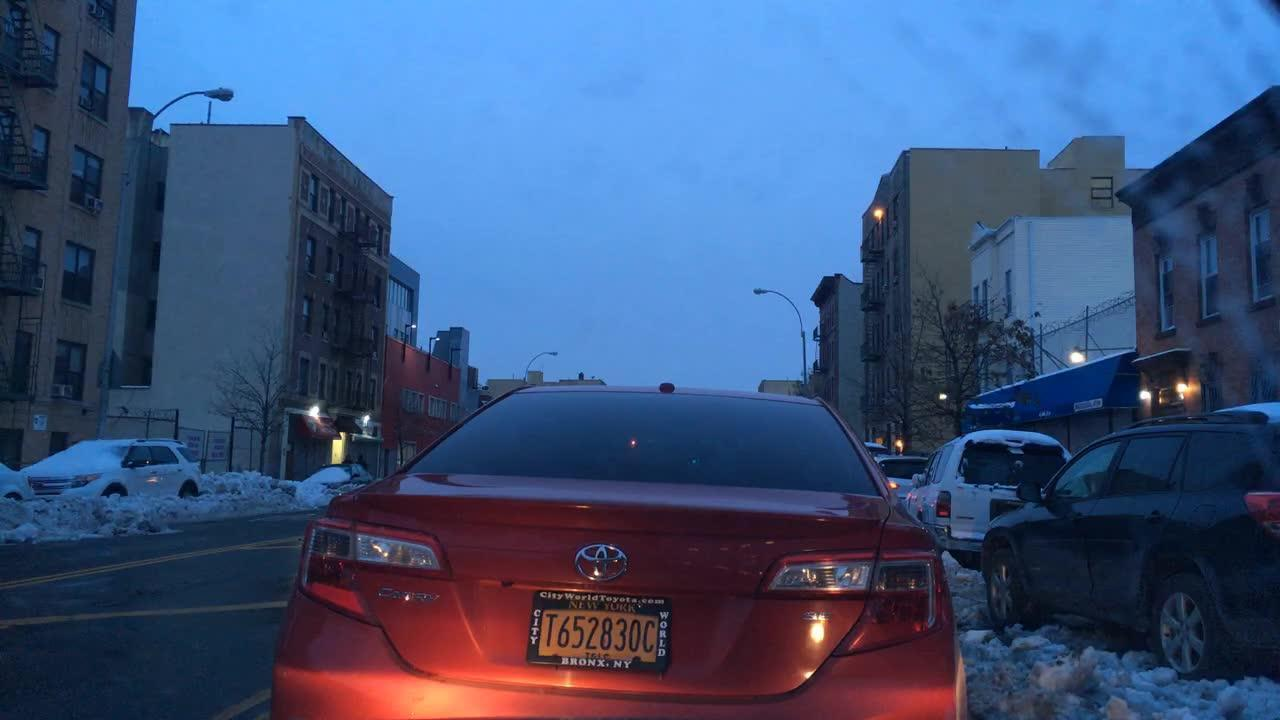Toyota: (549, 530, 649, 593)
